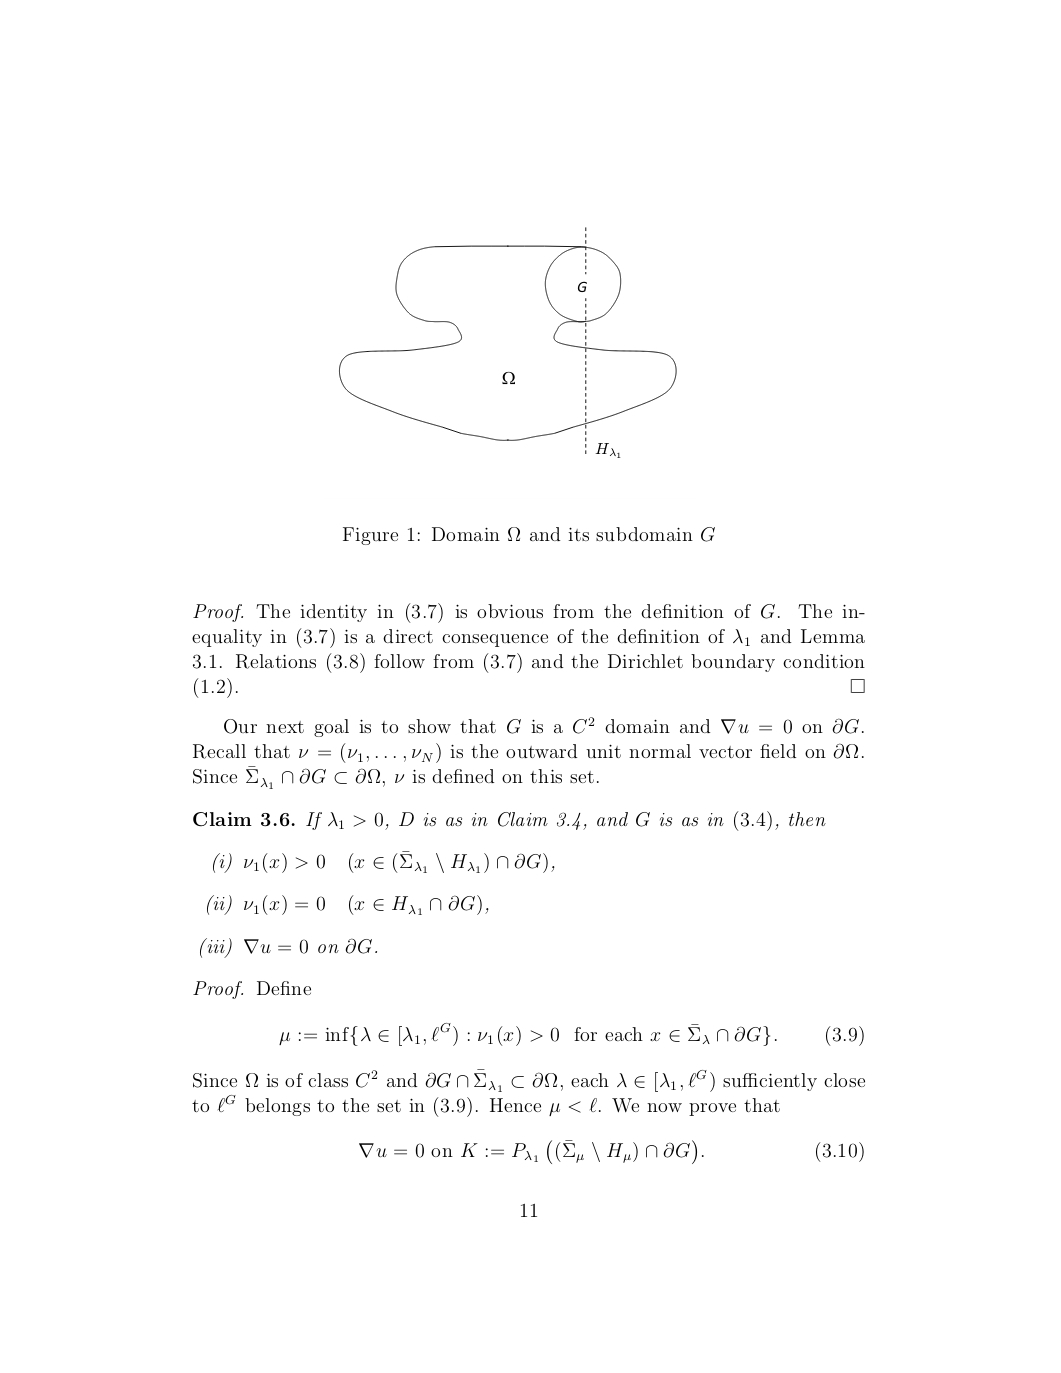figure: (339, 227, 676, 457)
formula: (279, 1021, 863, 1046), (359, 1139, 863, 1163), (213, 850, 554, 873), (207, 894, 488, 915), (199, 937, 377, 958)
